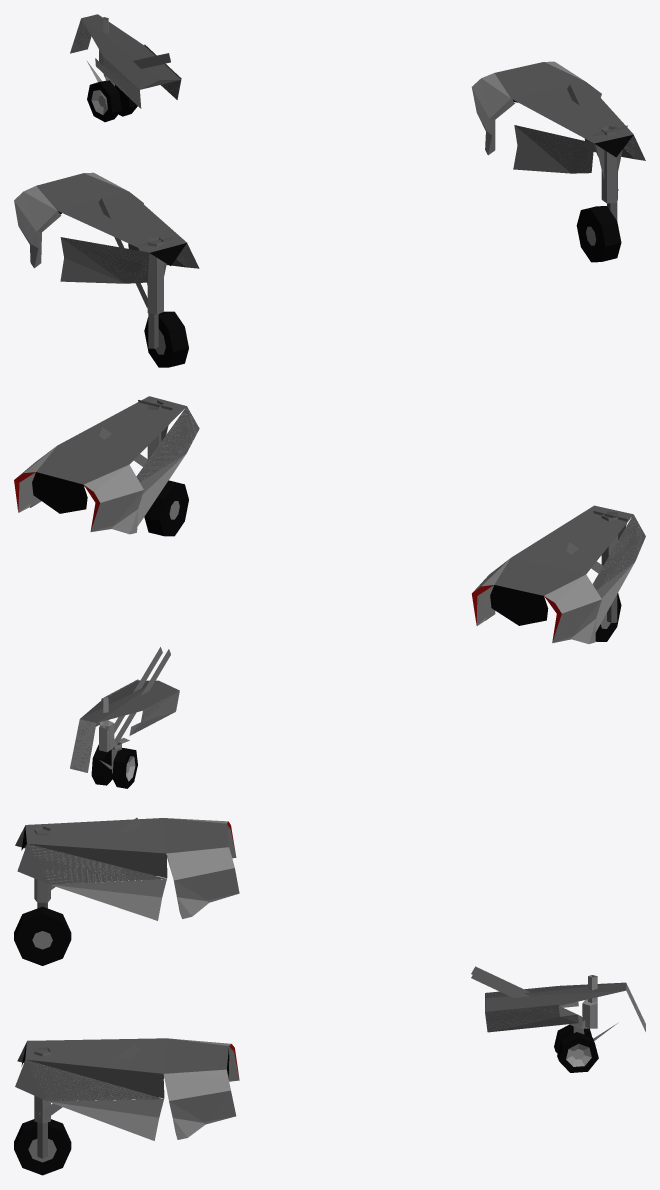
Rendered from Gear_E2CNP.obj.
The picture shows the model from 3 angles, top to bottom: view 1: azimuth 30°, elevation 25°; view 2: azimuth 150°, elevation 25°; view 3: azimuth 270°, elevation 25°; orthographic projection.
Visible parts, largest first — view 1: ShapeIndexedFaceSet.155_ShapeIndexedFaceSet.156, ShapeIndexedFaceSet.123_ShapeIndexedFaceSet.124, ShapeIndexedFaceSet.075_ShapeIndexedFaceSet.076, ShapeIndexedFaceSet.148_ShapeIndexedFaceSet.149, ShapeIndexedFaceSet.149_ShapeIndexedFaceSet.150, ShapeIndexedFaceSet.088_ShapeIndexedFaceSet.089, ShapeIndexedFaceSet.117_ShapeIndexedFaceSet.118, ShapeIndexedFaceSet.116_ShapeIndexedFaceSet.117, ShapeIndexedFaceSet.142_ShapeIndexedFaceSet.143, ShapeIndexedFaceSet.080_ShapeIndexedFaceSet.081, ShapeIndexedFaceSet.110_ShapeIndexedFaceSet.111, ShapeIndexedFaceSet.215_ShapeIndexedFaceSet.216 (+4 smaller); view 2: ShapeIndexedFaceSet.123_ShapeIndexedFaceSet.124, ShapeIndexedFaceSet.155_ShapeIndexedFaceSet.156, ShapeIndexedFaceSet.110_ShapeIndexedFaceSet.111, ShapeIndexedFaceSet.142_ShapeIndexedFaceSet.143, ShapeIndexedFaceSet.075_ShapeIndexedFaceSet.076, ShapeIndexedFaceSet.117_ShapeIndexedFaceSet.118, ShapeIndexedFaceSet.154_ShapeIndexedFaceSet.155, ShapeIndexedFaceSet.088_ShapeIndexedFaceSet.089, ShapeIndexedFaceSet.122_ShapeIndexedFaceSet.123, ShapeIndexedFaceSet.149_ShapeIndexedFaceSet.150, ShapeIndexedFaceSet.116_ShapeIndexedFaceSet.117, ShapeIndexedFaceSet.215_ShapeIndexedFaceSet.216 (+3 smaller); view 3: ShapeIndexedFaceSet.123_ShapeIndexedFaceSet.124, ShapeIndexedFaceSet.155_ShapeIndexedFaceSet.156, ShapeIndexedFaceSet.113_ShapeIndexedFaceSet.114, ShapeIndexedFaceSet.145_ShapeIndexedFaceSet.146, ShapeIndexedFaceSet.150_ShapeIndexedFaceSet.151, ShapeIndexedFaceSet.151_ShapeIndexedFaceSet.152, ShapeIndexedFaceSet.119_ShapeIndexedFaceSet.120, ShapeIndexedFaceSet.118_ShapeIndexedFaceSet.119, ShapeIndexedFaceSet.080_ShapeIndexedFaceSet.081, ShapeIndexedFaceSet.075_ShapeIndexedFaceSet.076, ShapeIndexedFaceSet.088_ShapeIndexedFaceSet.089, ShapeIndexedFaceSet.210_ShapeIndexedFaceSet.211 (+2 smaller).
Boxes of the visible parts, x1,y1,x2,y2 form: ShapeIndexedFaceSet.155_ShapeIndexedFaceSet.156: (36,173,186,252); ShapeIndexedFaceSet.123_ShapeIndexedFaceSet.124: (494,62,633,143); ShapeIndexedFaceSet.075_ShapeIndexedFaceSet.076: (81,14,180,89); ShapeIndexedFaceSet.148_ShapeIndexedFaceSet.149: (60,237,148,283); ShapeIndexedFaceSet.149_ShapeIndexedFaceSet.150: (61,237,149,283); ShapeIndexedFaceSet.088_ShapeIndexedFaceSet.089: (576,206,621,262); ShapeIndexedFaceSet.117_ShapeIndexedFaceSet.118: (515,125,594,173); ShapeIndexedFaceSet.116_ShapeIndexedFaceSet.117: (513,125,593,173); ShapeIndexedFaceSet.142_ShapeIndexedFaceSet.143: (14,186,57,267); ShapeIndexedFaceSet.080_ShapeIndexedFaceSet.081: (144,311,188,367); ShapeIndexedFaceSet.110_ShapeIndexedFaceSet.111: (471,73,510,154); ShapeIndexedFaceSet.215_ShapeIndexedFaceSet.216: (87,80,137,122); ShapeIndexedFaceSet.123_ShapeIndexedFaceSet.124: (36,396,186,484); ShapeIndexedFaceSet.155_ShapeIndexedFaceSet.156: (494,505,633,595); ShapeIndexedFaceSet.110_ShapeIndexedFaceSet.111: (84,464,143,534); ShapeIndexedFaceSet.142_ShapeIndexedFaceSet.143: (544,574,601,644); ShapeIndexedFaceSet.075_ShapeIndexedFaceSet.076: (80,680,179,722); ShapeIndexedFaceSet.117_ShapeIndexedFaceSet.118: (136,406,199,481); ShapeIndexedFaceSet.154_ShapeIndexedFaceSet.155: (490,585,548,625); ShapeIndexedFaceSet.088_ShapeIndexedFaceSet.089: (144,480,188,536); ShapeIndexedFaceSet.122_ShapeIndexedFaceSet.123: (32,472,87,513); ShapeIndexedFaceSet.149_ShapeIndexedFaceSet.150: (593,515,645,590); ShapeIndexedFaceSet.116_ShapeIndexedFaceSet.117: (137,408,196,526); ShapeIndexedFaceSet.215_ShapeIndexedFaceSet.216: (91,744,137,788); ShapeIndexedFaceSet.123_ShapeIndexedFaceSet.124: (25,1038,228,1098); ShapeIndexedFaceSet.155_ShapeIndexedFaceSet.156: (25,818,228,878); ShapeIndexedFaceSet.113_ShapeIndexedFaceSet.114: (163,1069,236,1139); ShapeIndexedFaceSet.145_ShapeIndexedFaceSet.146: (167,847,239,918); ShapeIndexedFaceSet.150_ShapeIndexedFaceSet.151: (29,846,166,920); ShapeIndexedFaceSet.151_ShapeIndexedFaceSet.152: (17,843,166,884); ShapeIndexedFaceSet.119_ShapeIndexedFaceSet.120: (15,1059,163,1101); ShapeIndexedFaceSet.118_ShapeIndexedFaceSet.119: (26,1060,163,1140); ShapeIndexedFaceSet.080_ShapeIndexedFaceSet.081: (14,906,71,965); ShapeIndexedFaceSet.075_ShapeIndexedFaceSet.076: (485,982,626,1012); ShapeIndexedFaceSet.088_ShapeIndexedFaceSet.089: (14,1119,71,1175); ShapeIndexedFaceSet.210_ShapeIndexedFaceSet.211: (485,1004,578,1032).
Size of the model in its own units: 81.5 by 18.91 by 79.49.
